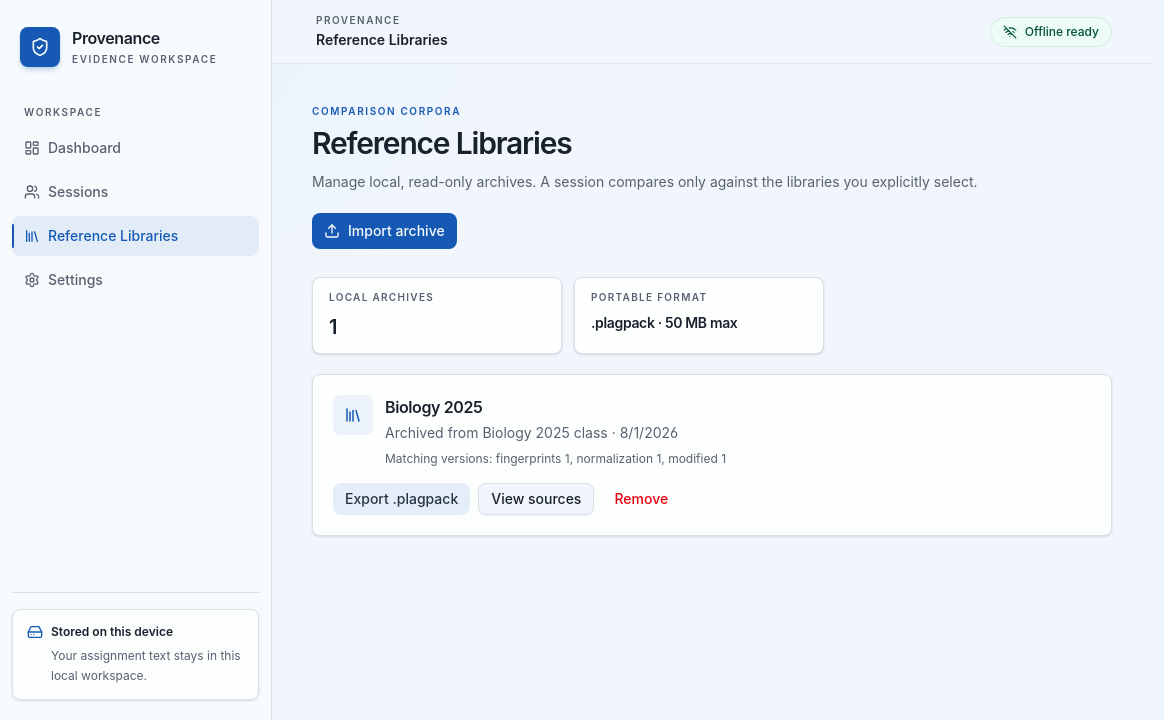
Test: reference libraries › exports a portable archive and shows its selected save path
Click the button "Export .plagpack". click: (402, 499)
box: left=333, top=483, right=470, bottom=515
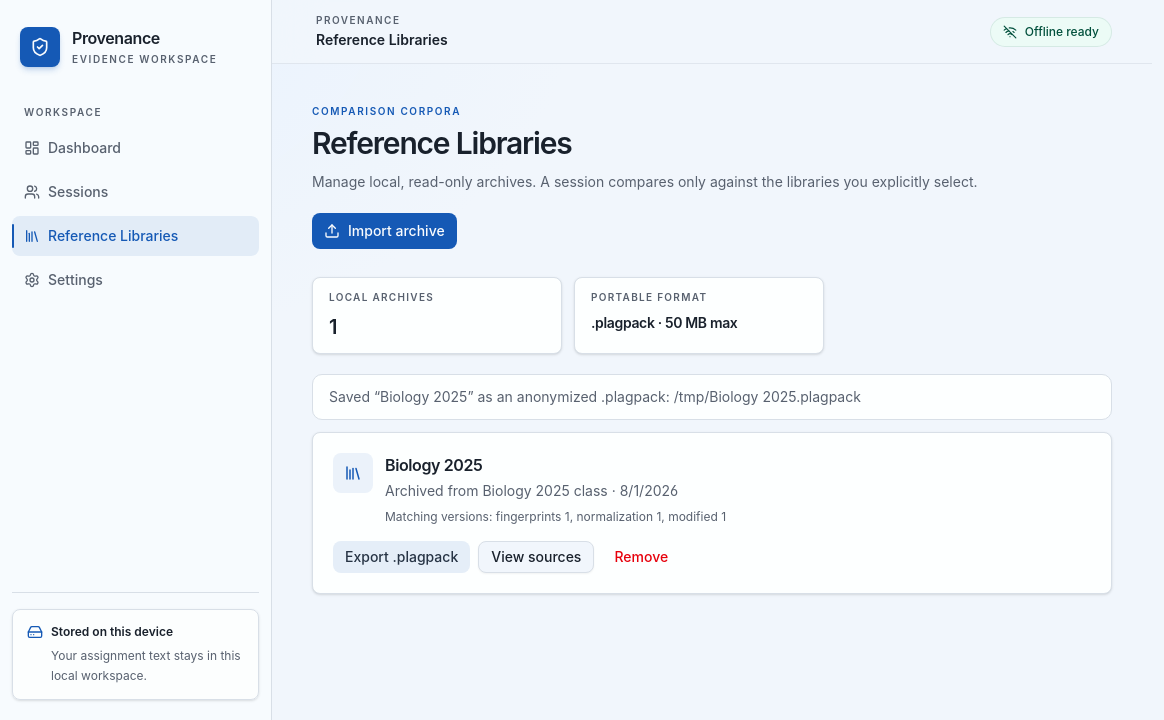
Expected: the message reads "Saved “Biology 2025” as an anonymized .plagpack: /tmp/Biology 2025.plagpack", left=329, top=388, right=861, bottom=405
